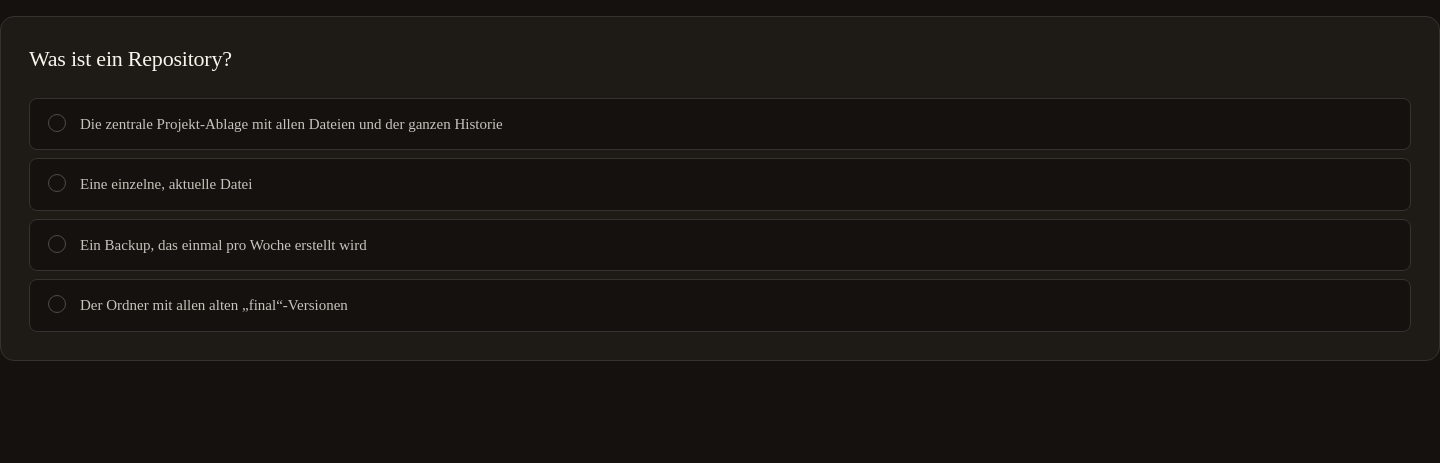
Scenario: volle MDX-Pipeline (wie in Produktion) › correct={true} überlebt die Pipeline; erste Option grading Richtig
Click the button "zentrale Projekt-Ablage".
click(291, 124)  # box [29,98,1411,150]
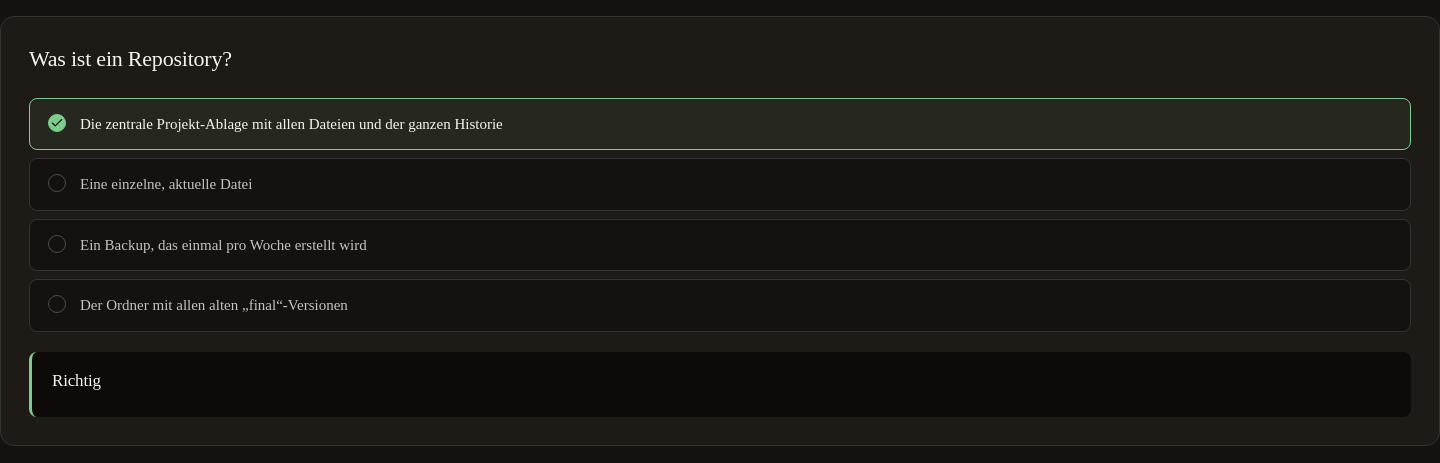
Result: the text "Richtig" is shown at [52,371,101,390]
